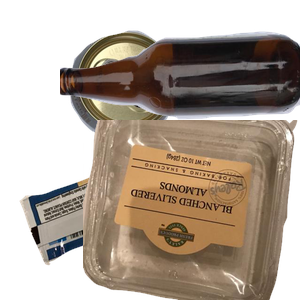glass: (60, 29, 300, 141)
metal: (68, 28, 237, 159)
plastic: (83, 120, 300, 300)
trash: (17, 123, 257, 300)
